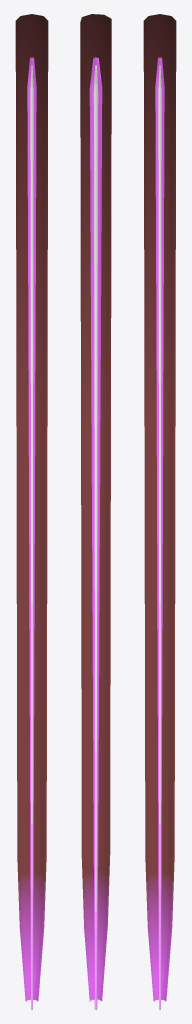
File: hole_indicator.gltf
3 views of the same model, side by side, from view 1: azimuth 90°, elevation 25°; view 2: azimuth 150°, elevation 25°; view 3: azimuth 270°, elevation 25° (orthographic).
Parts seen in each view (by area): view 1: Cylinder; view 2: Cylinder; view 3: Cylinder.
Part boxes in pixels (left/top/right/bottom): Cylinder: left=15, top=14, right=48, bottom=1009; Cylinder: left=80, top=14, right=111, bottom=1009; Cylinder: left=143, top=14, right=176, bottom=1009.
Bounding box in the file's own units: 0.3113 × 10.44 × 0.3113.
1 material, 1 textured.
